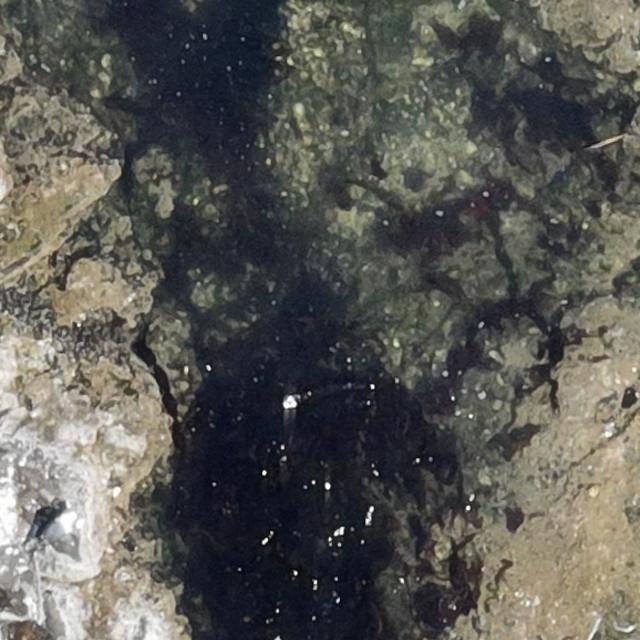umineko: (44, 507, 81, 542)
